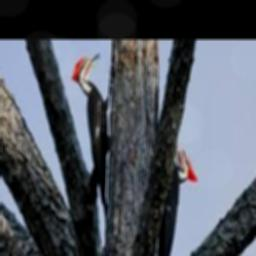Woodpecker: (72, 53, 113, 217), (155, 132, 197, 256)
